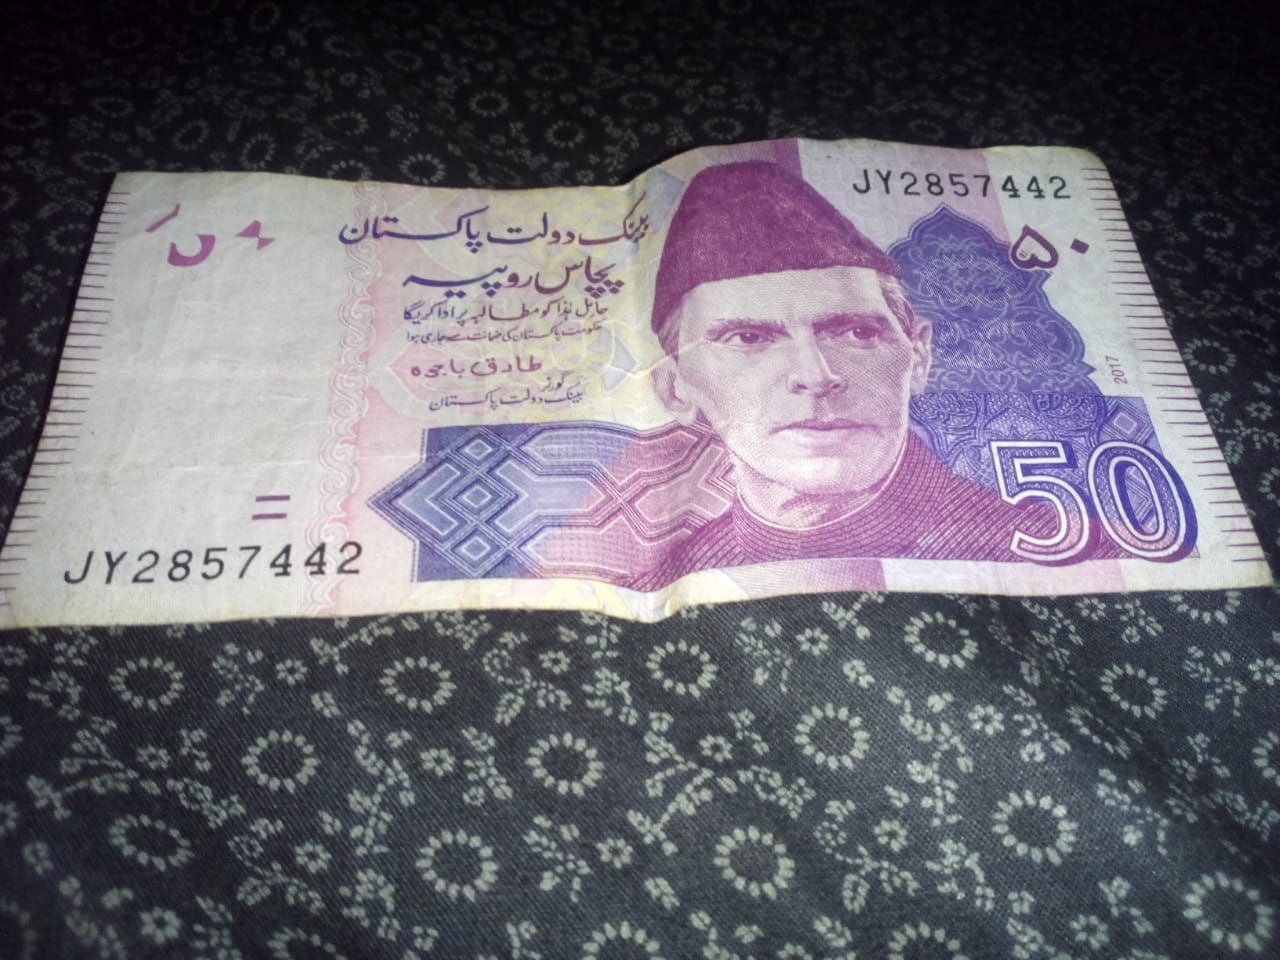50 rupee: (0, 121, 1269, 692)
